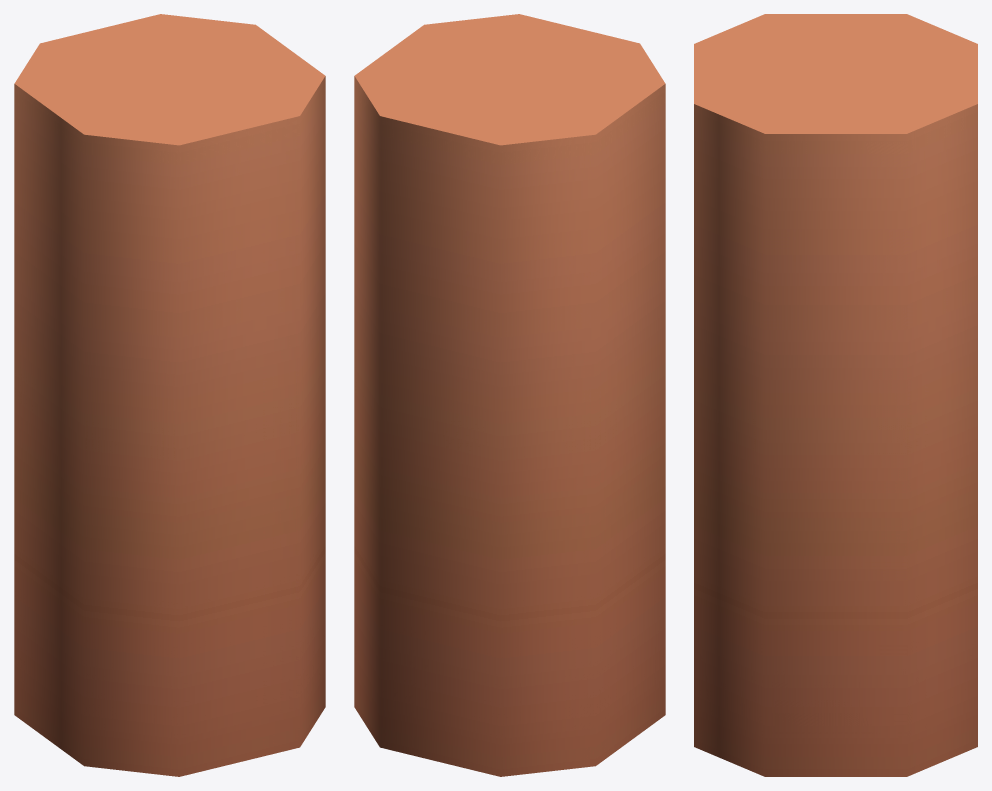
The model's file is support.glb.
3 renders of one model, left to right at view 1: azimuth 30°, elevation 25°; view 2: azimuth 150°, elevation 25°; view 3: azimuth 270°, elevation 25°, orthographic.
Parts seen in each view (by area): view 1: support; view 2: support; view 3: support.
Boxes of the visible parts, bbox=[...] form: support: bbox=[14, 14, 325, 776]; support: bbox=[354, 14, 665, 776]; support: bbox=[694, 14, 977, 776].
Bounding box in the file's own units: 0.4 × 1 × 0.4.
Materials: 1 (1 with a texture image).
